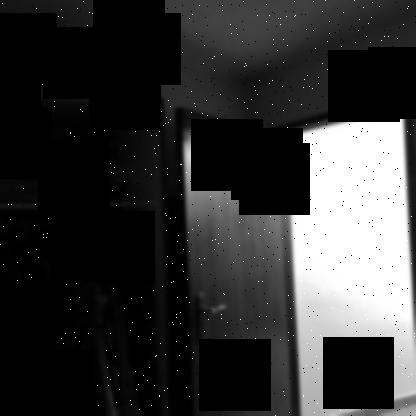Porte: (171, 90, 416, 415)
